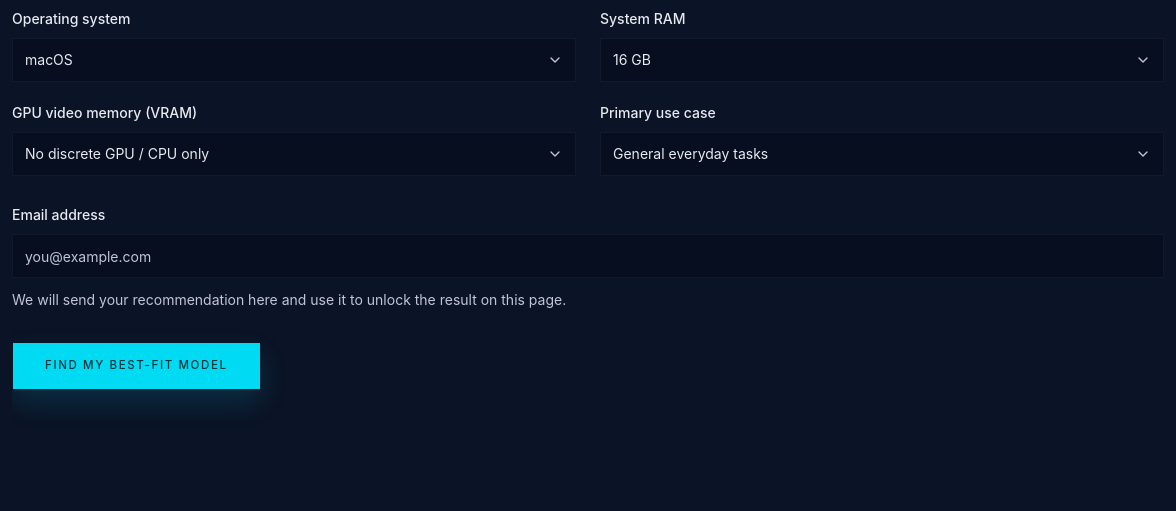
it: LocalModelCalculator submission › blocks a malformed email before a public submission is created
Type "not-an-email" into the field labelled "Email address".
click(588, 256); type("not-an-email")  # box [12,234,1164,278]
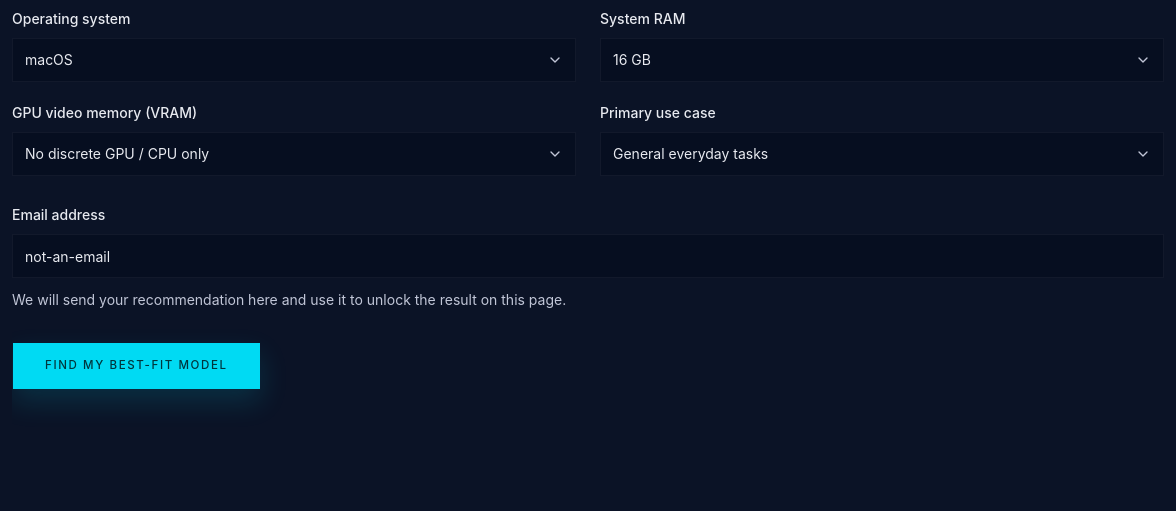
the visitor submits the recommendation request
Submit the form
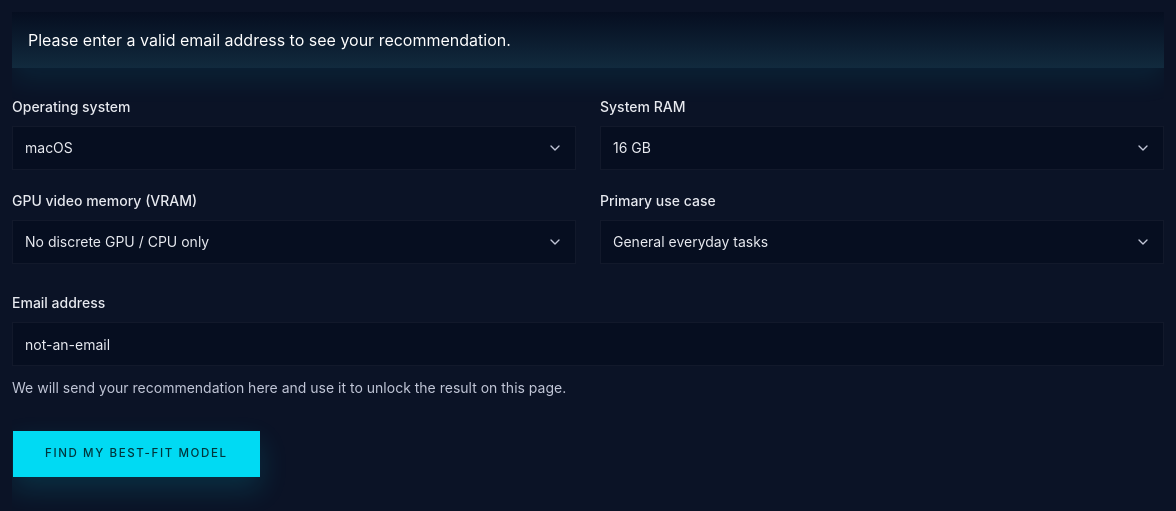
Result: the text "Please enter a valid email address to see your recommendation." is shown at [12,12,1164,68]
